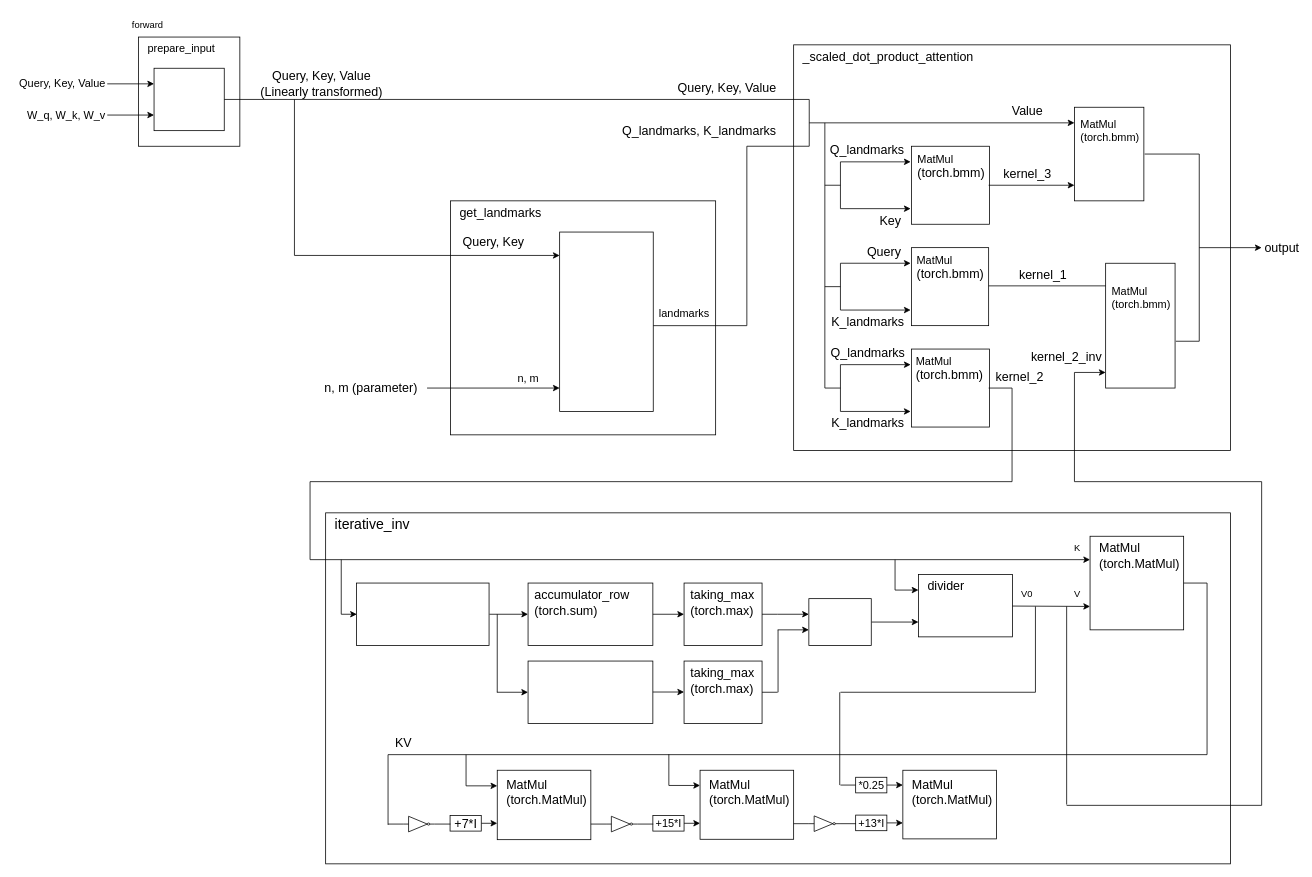
Some shapes in this 1312 by 877 pixel diagram are drawn without their labels. The centre of each missing label's shape, as x and y in pixels:
accumulator_column (torch.sum): the point at 590,691
MatMul (nn.Linear): the point at 188,99
mean_ caluculator: the point at 606,321
multiplier: the point at 839,621
taking_absolute_value (torch.abs): the point at 422,613
